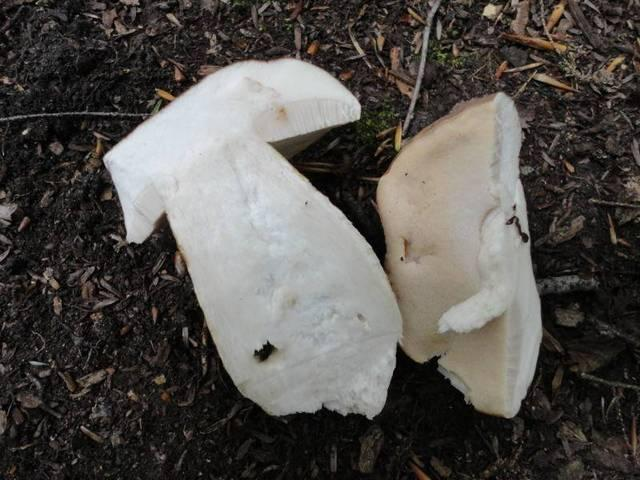Non-edible Mushroom: (101, 56, 404, 420), (374, 90, 544, 419)
